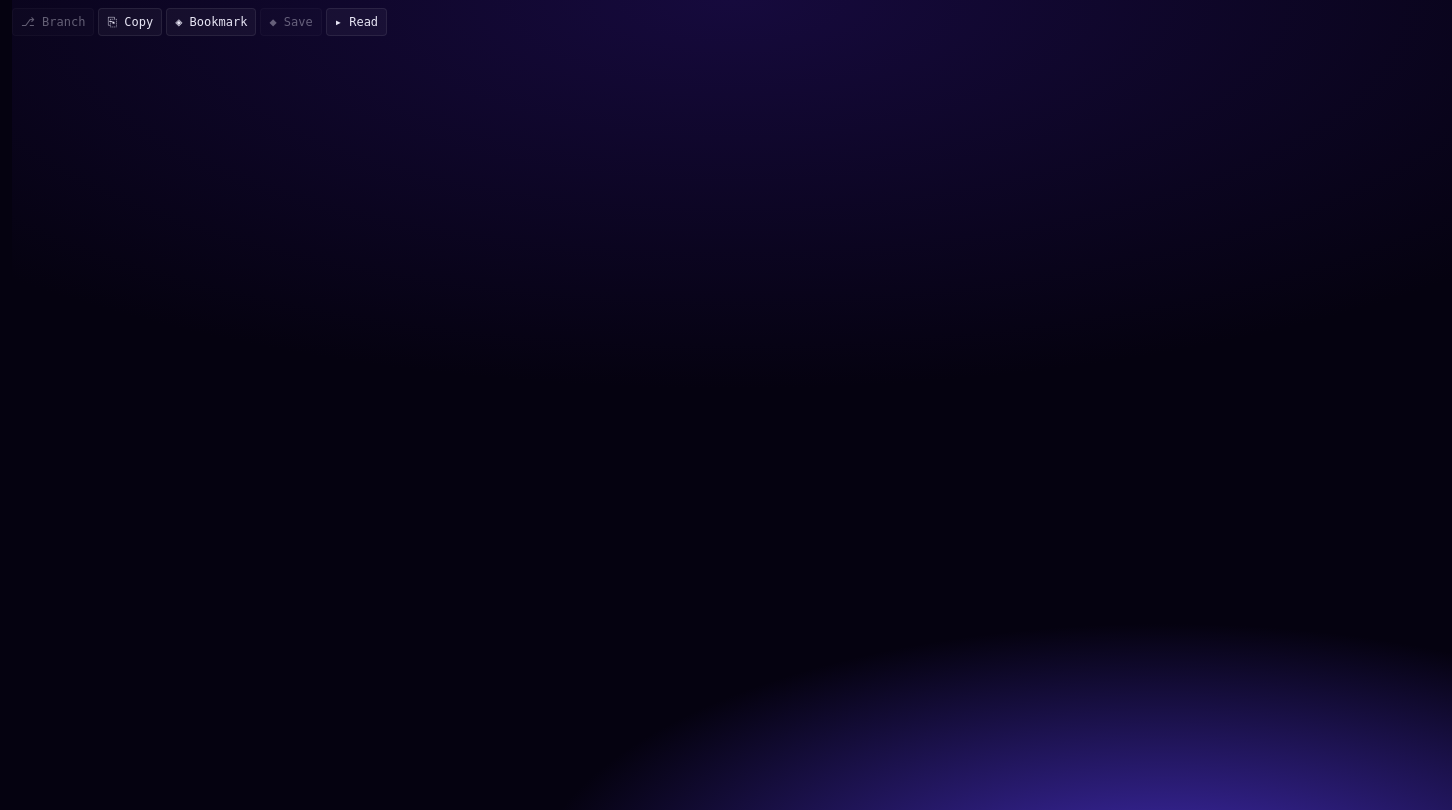
Test: manual read button disabled reason (touch) › reveals the reason inline on tap when disabled (no-voice)
Expected: the text "voice" is not shown
Click the button "▸ Read".
click(356, 22)  # box 326,8 -> 387,36
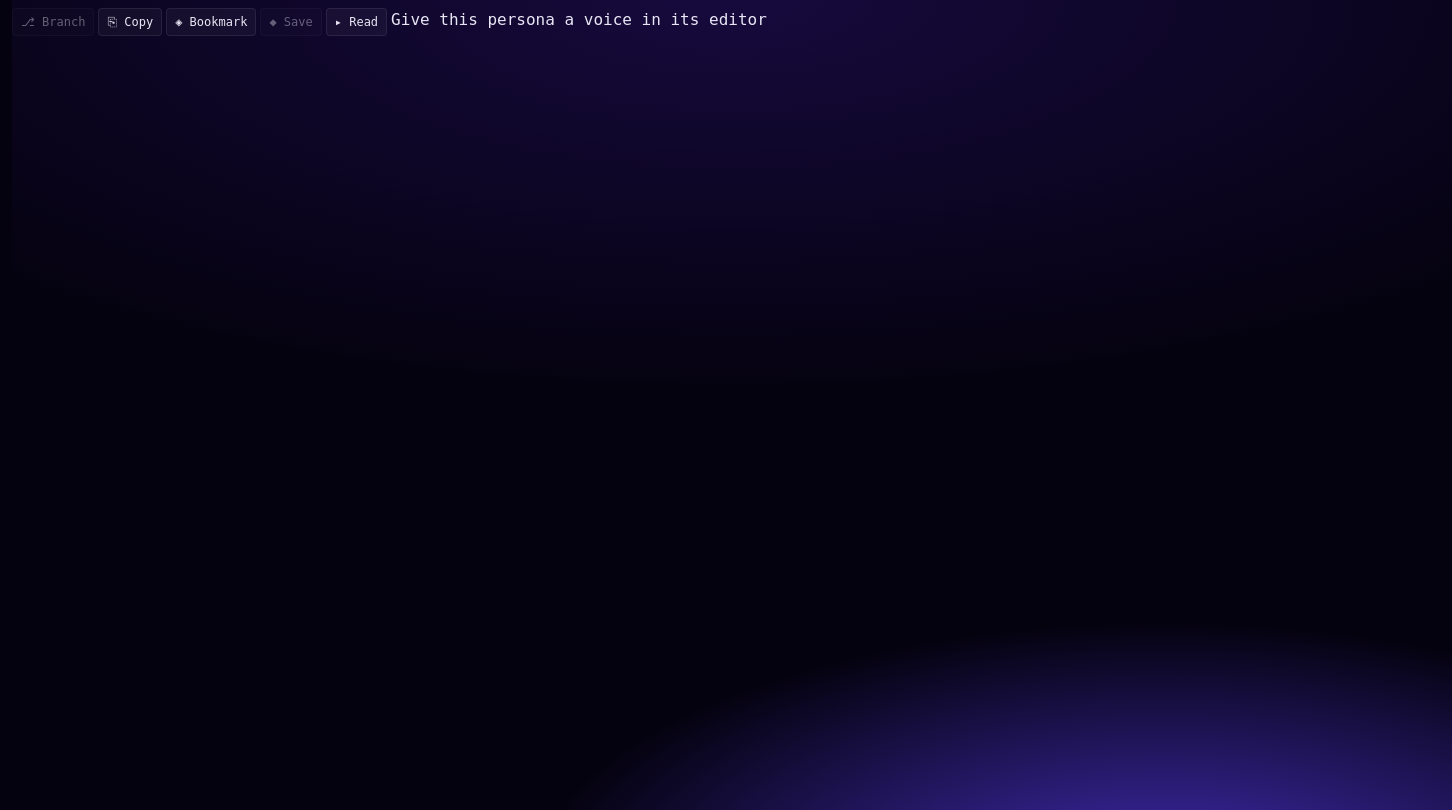
Expected: the text "Give this persona a voice in its editor" is shown, 391,8 -> 767,36
